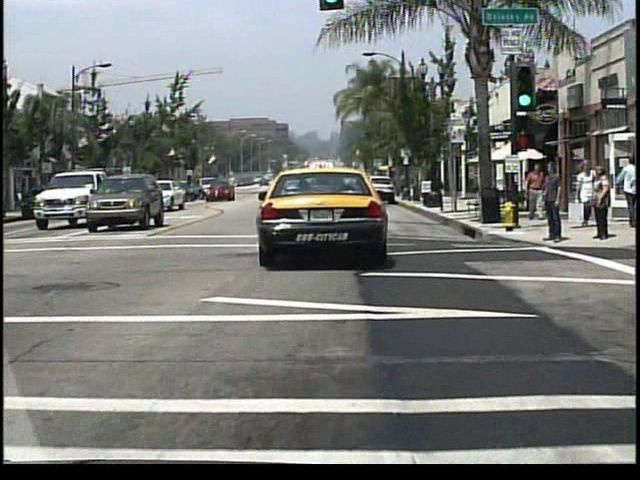person: (543, 159, 564, 244), (591, 166, 612, 242), (575, 160, 595, 229), (527, 165, 546, 219)
